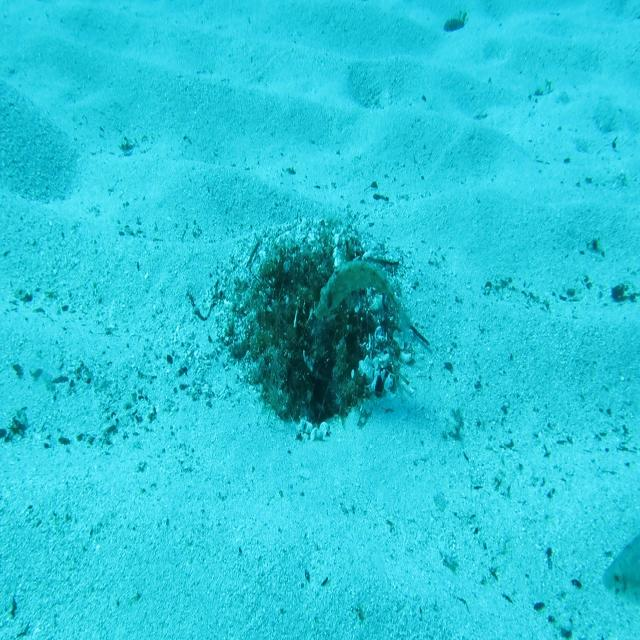BK_SW: (314, 255, 412, 343)
core_nest: (287, 267, 333, 304)
female: (600, 530, 640, 614)
nest: (205, 207, 418, 449)
vegetation: (443, 11, 467, 36)
